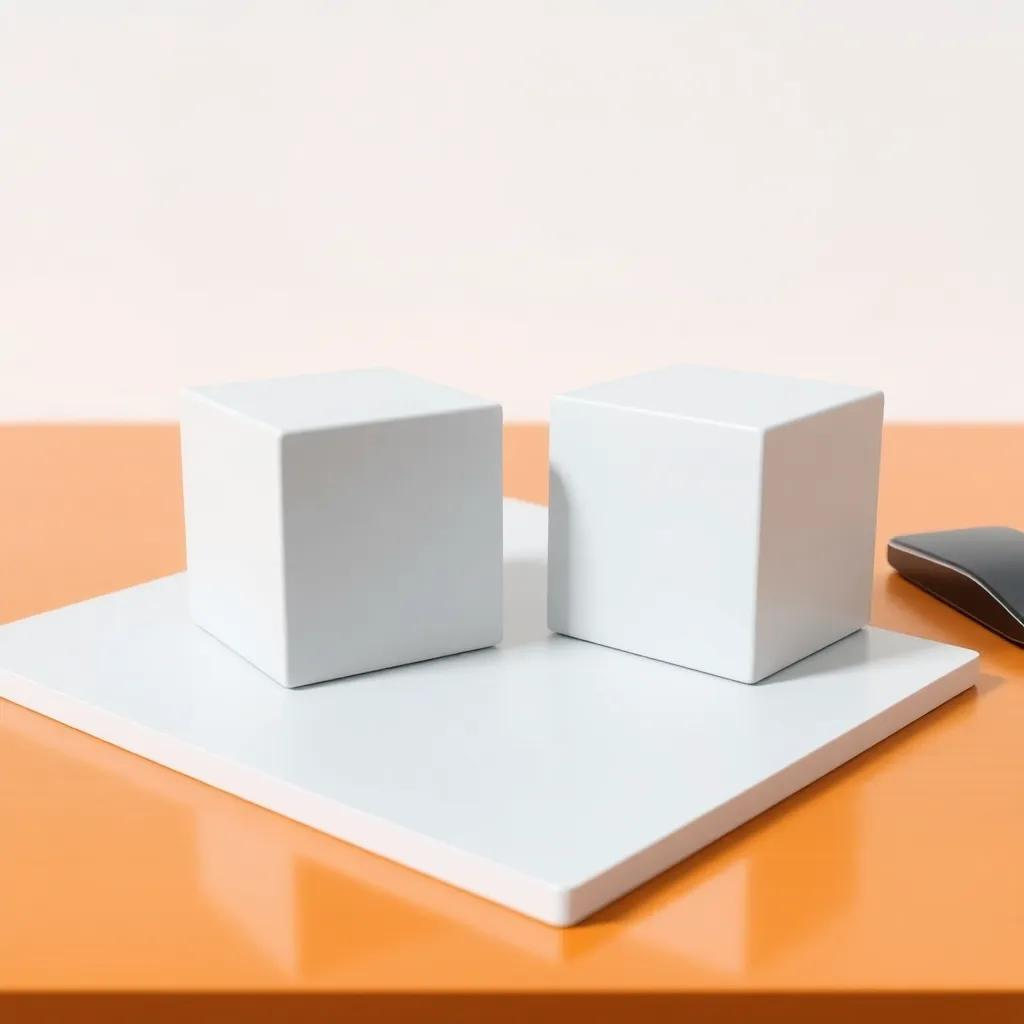cube: (545, 360, 885, 684), (178, 363, 505, 689)
